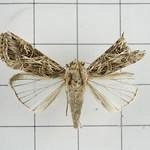Spodoptera litura: (1, 32, 146, 129)
